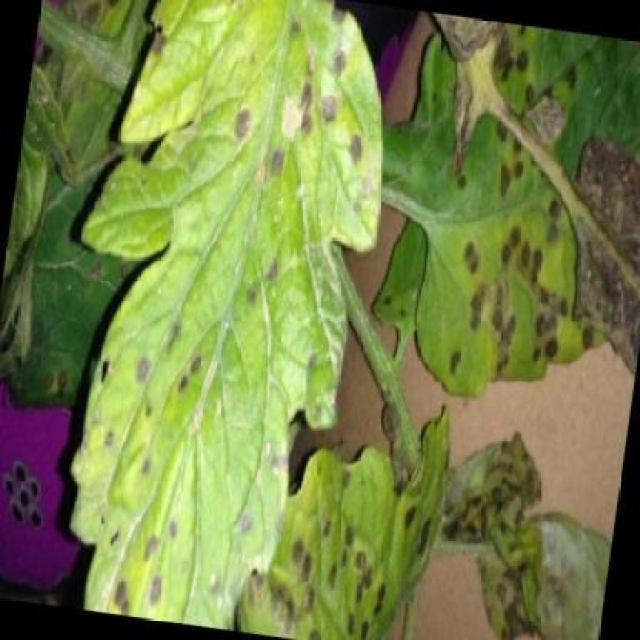Septoria leaf spot: (67, 1, 386, 640), (423, 21, 629, 403), (423, 391, 626, 640), (262, 428, 450, 640)
